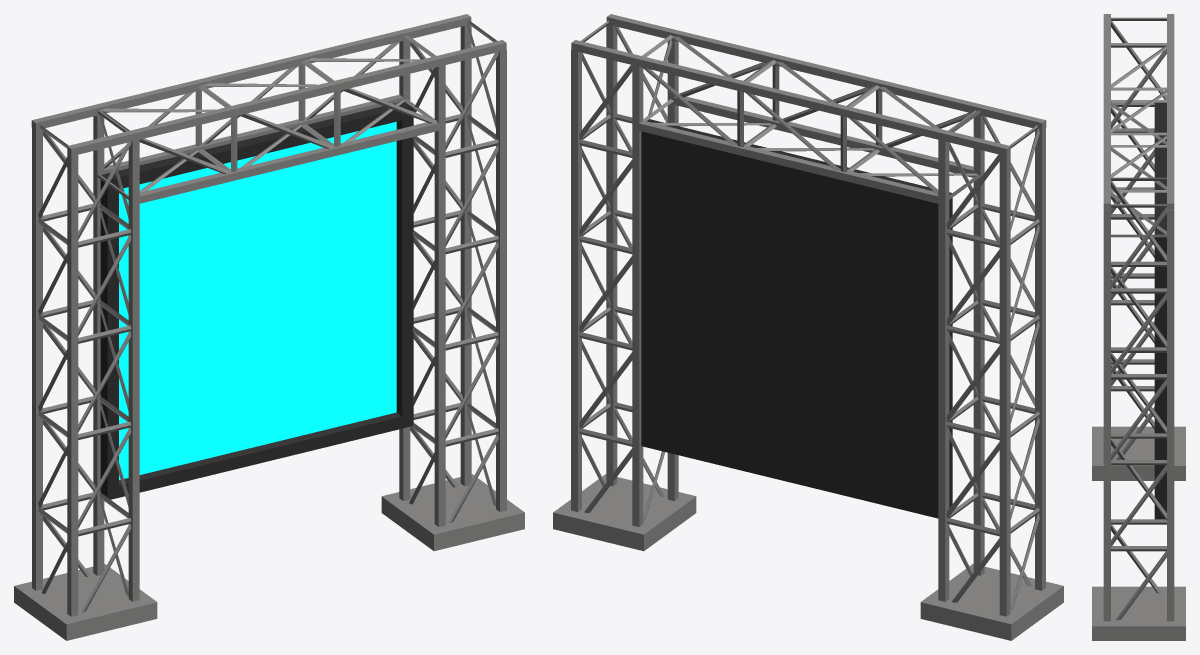
File: SM_Props_Concert_Screen.fbx
3 views of the same model, side by side, from view 1: azimuth 30°, elevation 25°; view 2: azimuth 150°, elevation 25°; view 3: azimuth 270°, elevation 25° (orthographic). The views are drawn at different scales.
Parts seen in each view (by area): view 1: SM_Props_Concert_Screen; view 2: SM_Props_Concert_Screen; view 3: SM_Props_Concert_Screen.
Boxes of the visible parts, x1,y1,x2,y2 form: SM_Props_Concert_Screen: (14, 14, 524, 640); SM_Props_Concert_Screen: (553, 14, 1063, 640); SM_Props_Concert_Screen: (1092, 14, 1185, 640).
Bounding box in the file's own units: 299 × 302 × 59.4.
